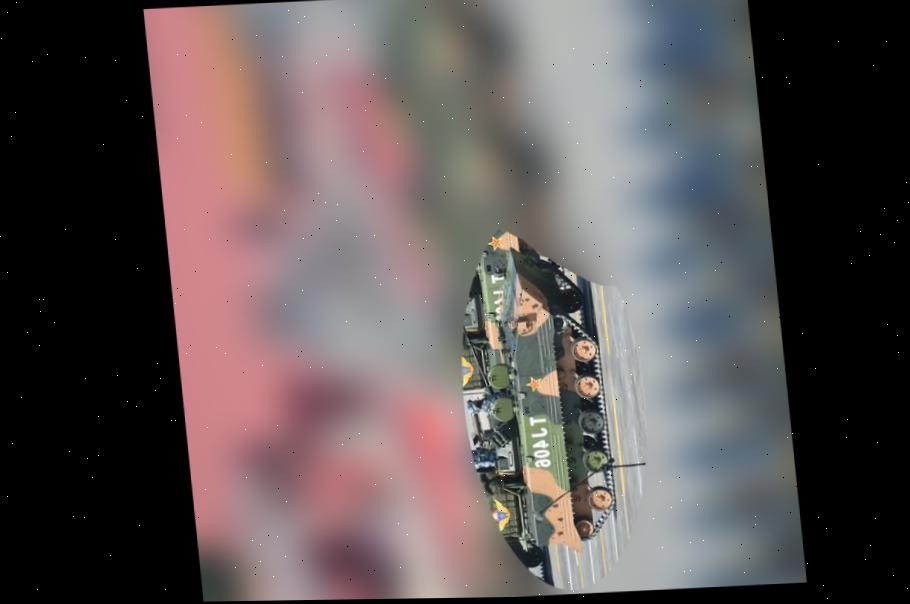armored_car: (450, 223, 624, 561)
